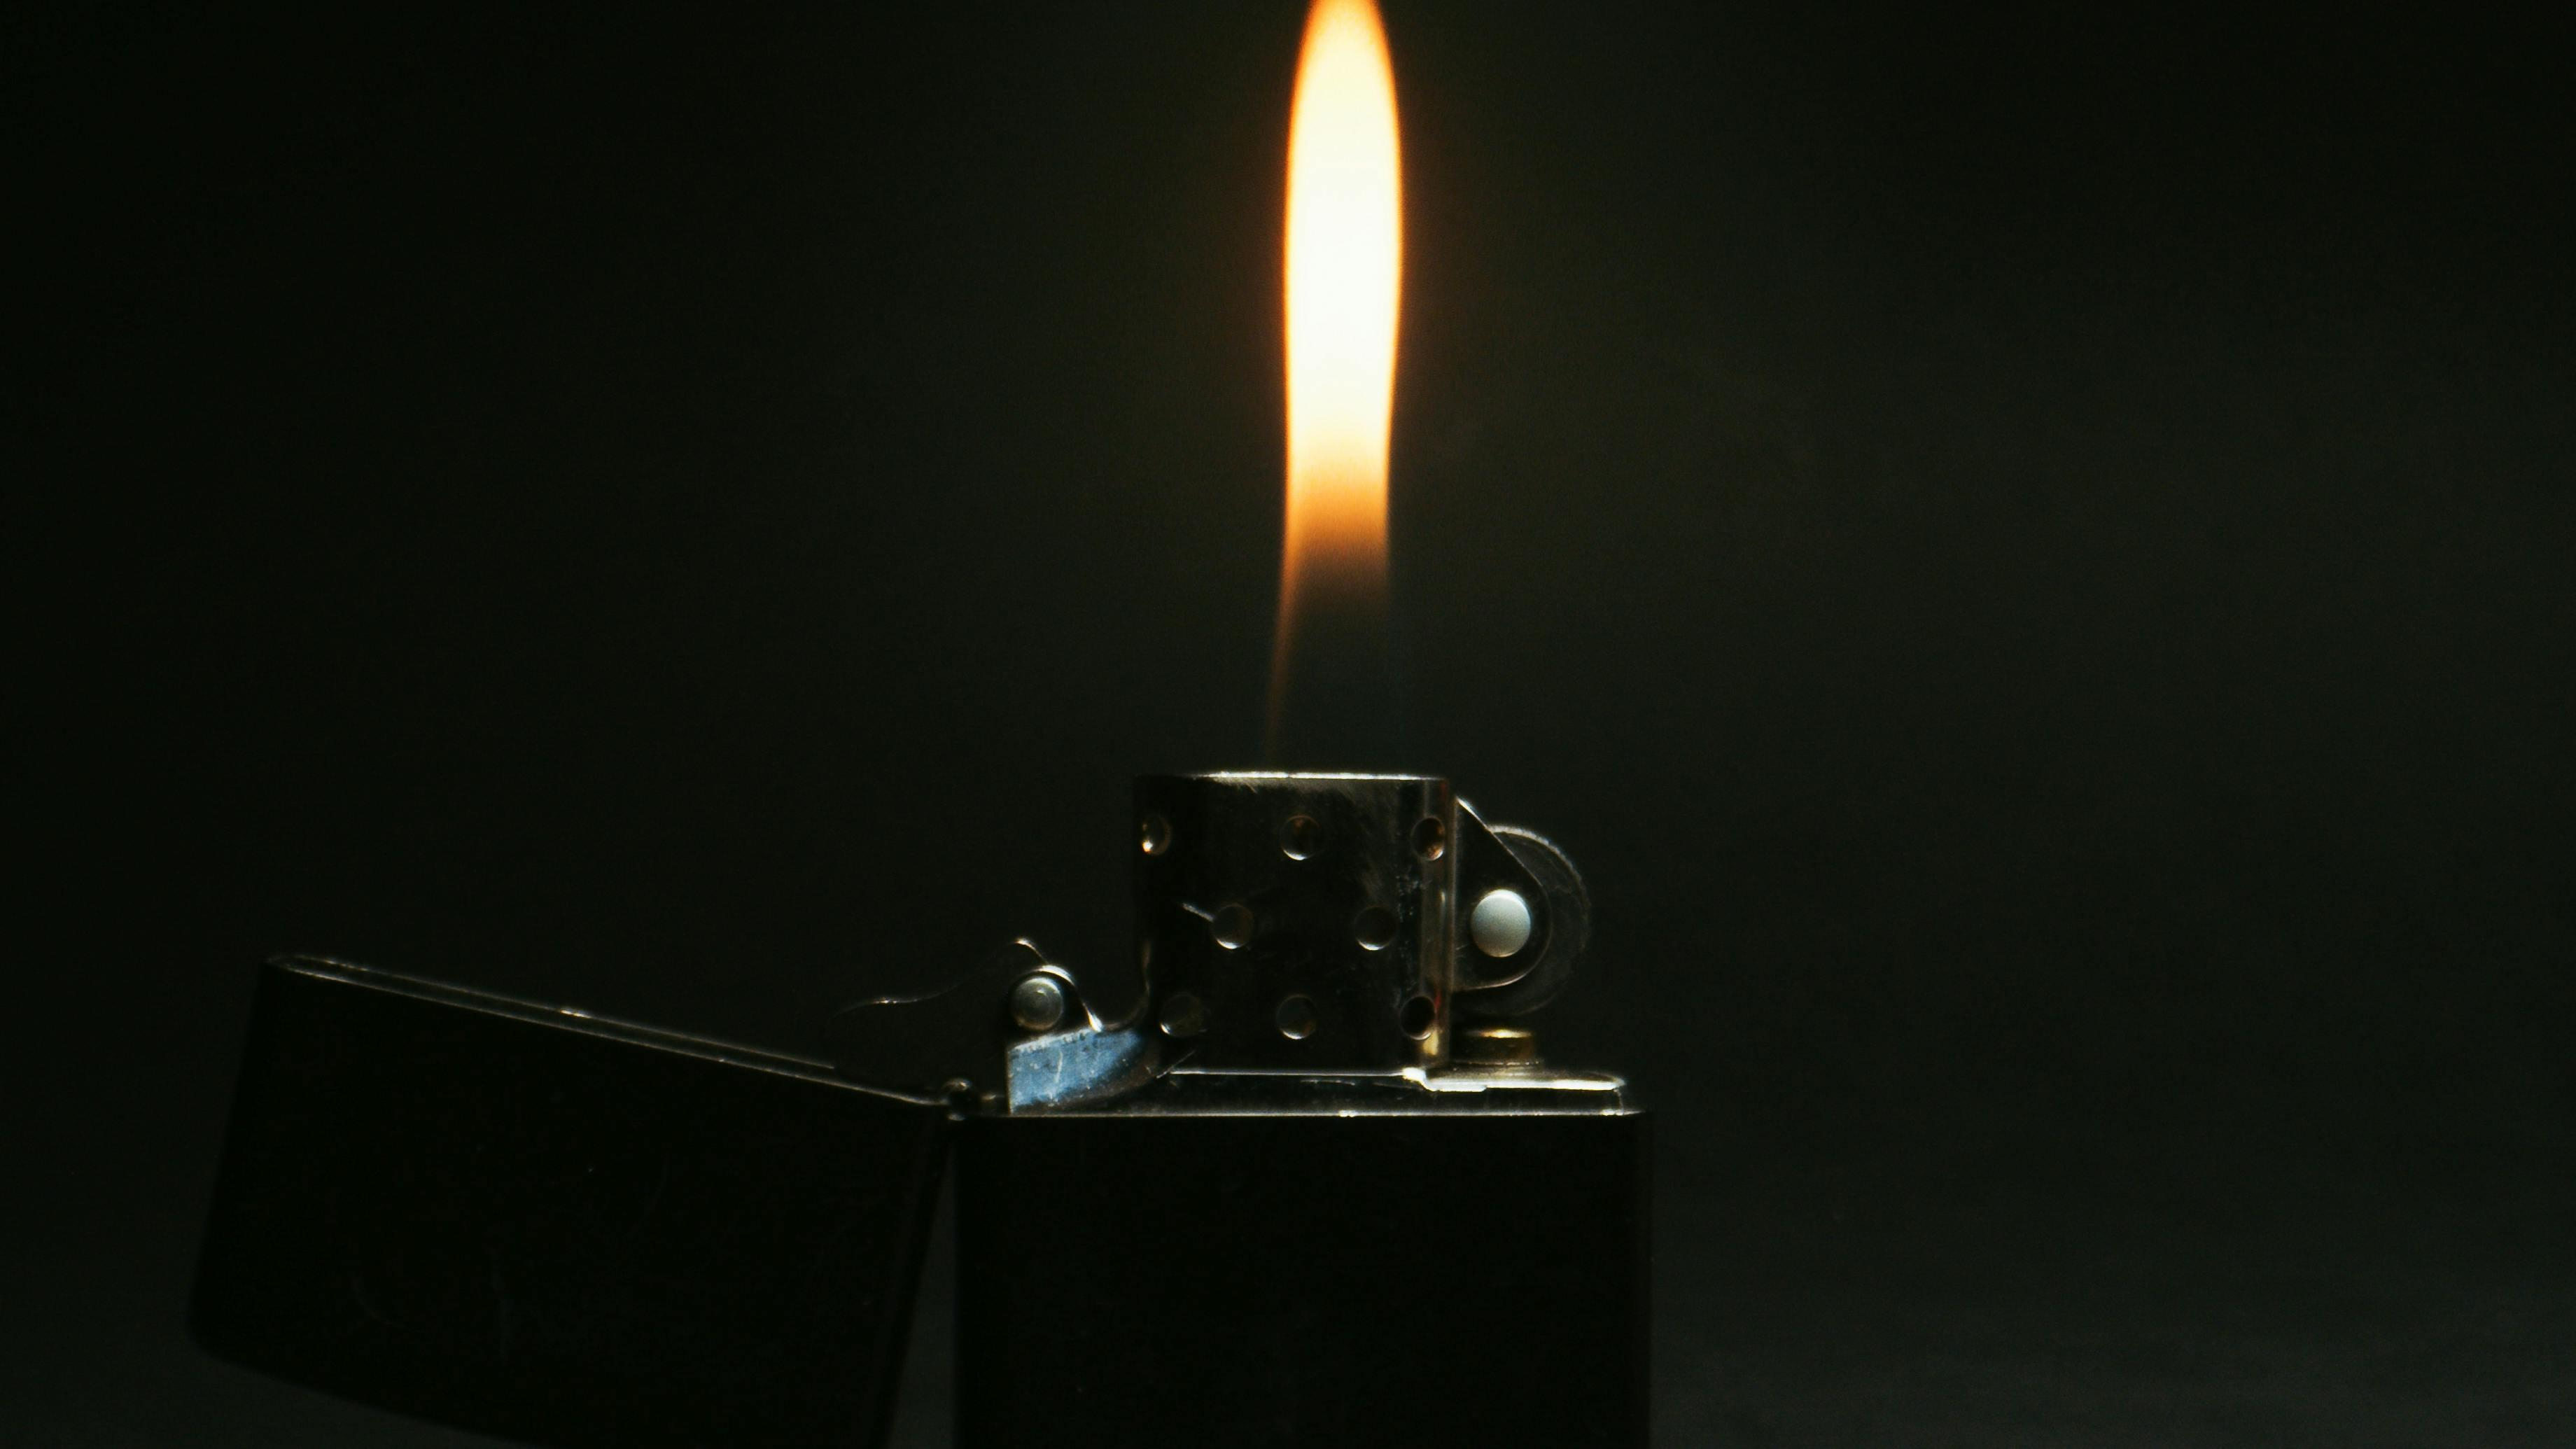Fire: (1240, 0, 1435, 754)
